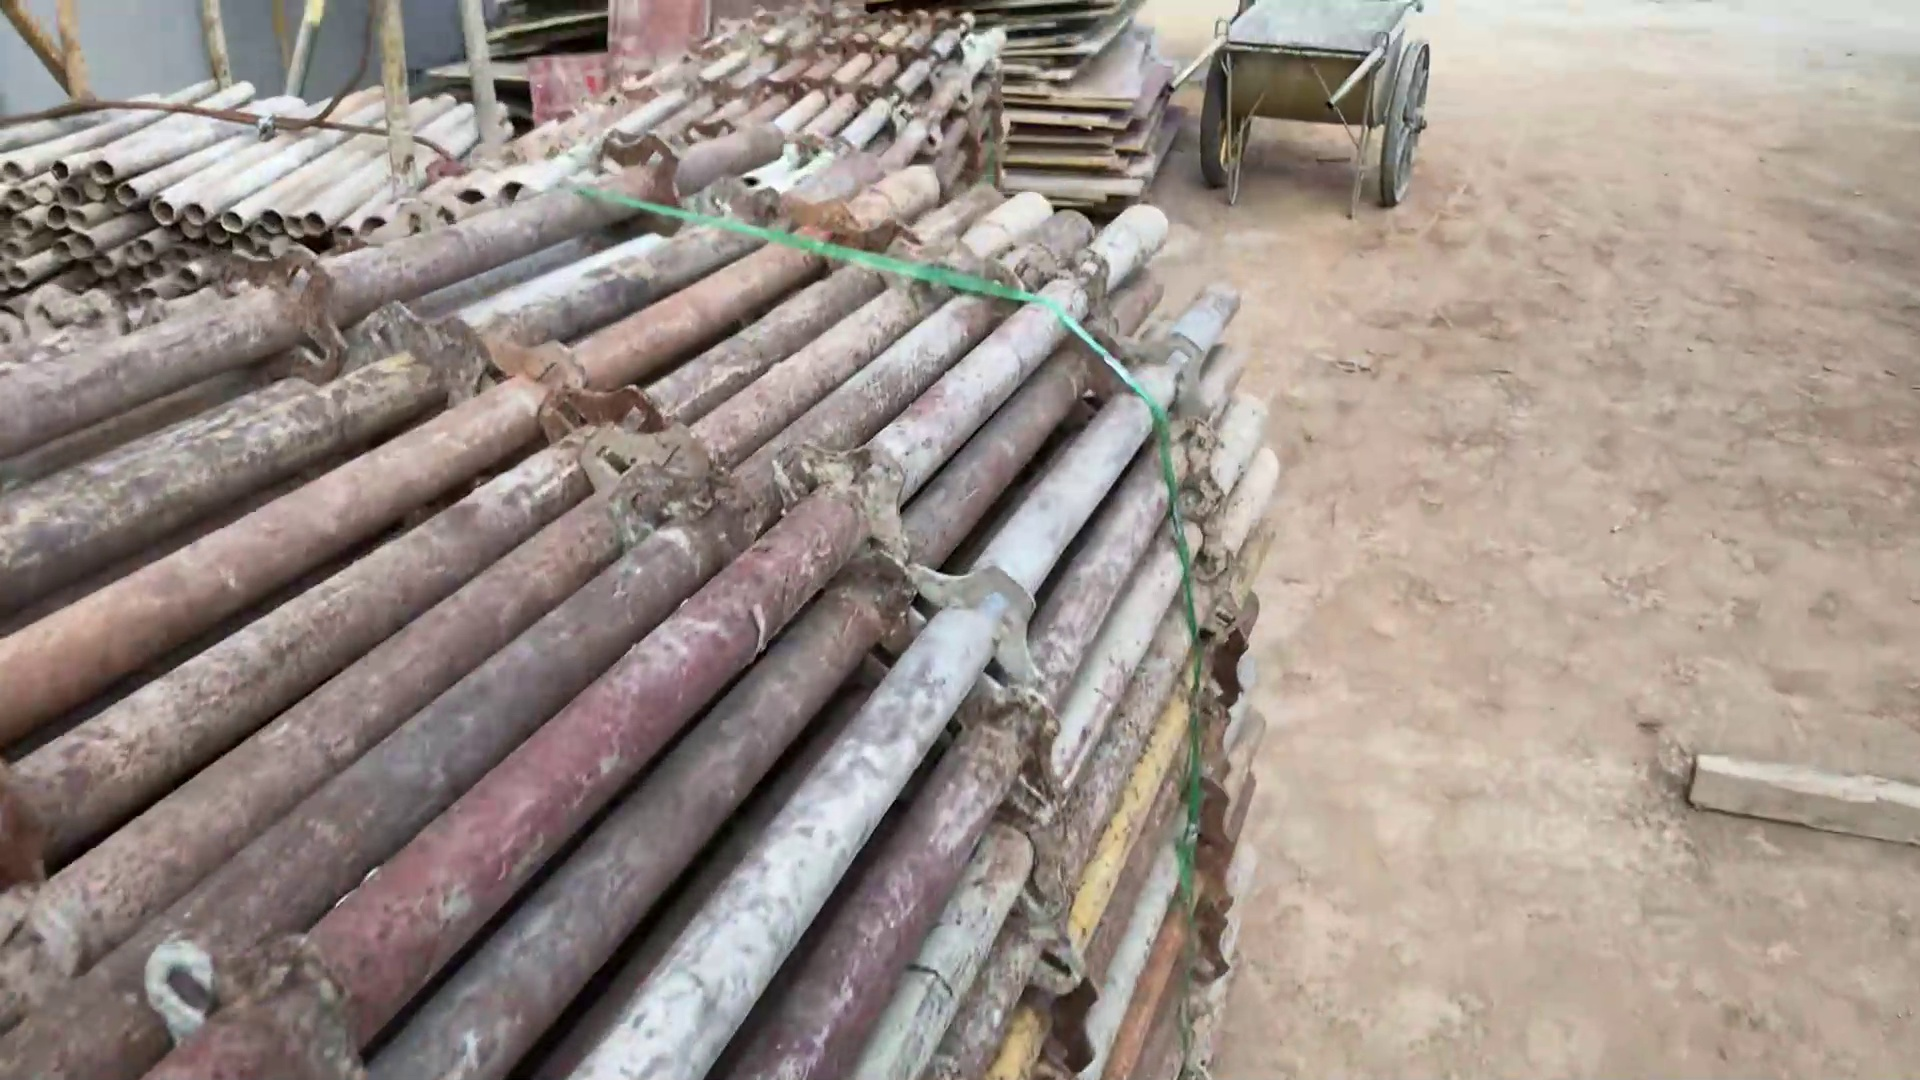handcart: (1153, 1, 1441, 219)
scaffold: (1, 119, 1303, 1080), (1, 74, 517, 343), (555, 3, 1026, 189)
